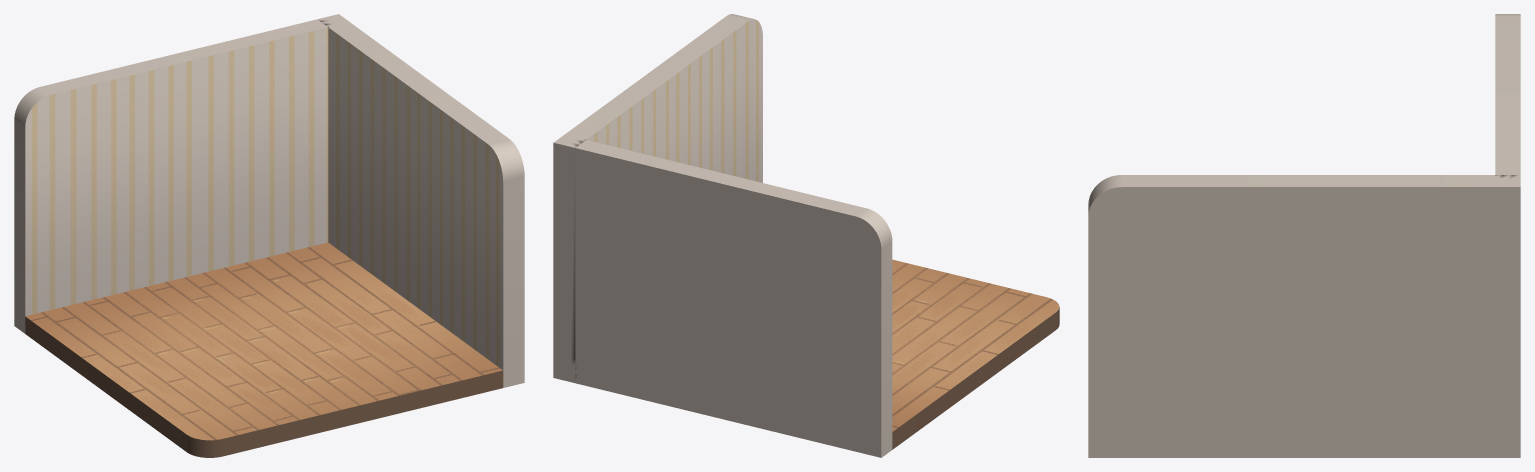
Rendered from test_room.fbx.
3 views of the same model, side by side, from view 1: azimuth 30°, elevation 25°; view 2: azimuth 150°, elevation 25°; view 3: azimuth 270°, elevation 25° (orthographic). The views are drawn at different scales.
Parts seen in each view (by area): view 1: Cube.004; view 2: Cube.004; view 3: Cube.004.
Part boxes in pixels (bbox=[...]): Cube.004: bbox=[14, 14, 524, 457]; Cube.004: bbox=[553, 14, 1059, 457]; Cube.004: bbox=[1088, 14, 1520, 457].
Size of the model in its own units: 1070 by 734 by 1061.
